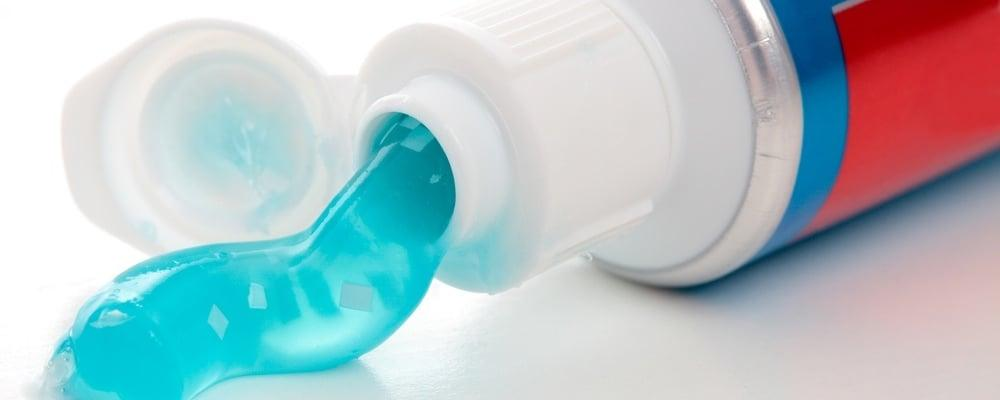toothpaste: (335, 1, 1000, 309)
